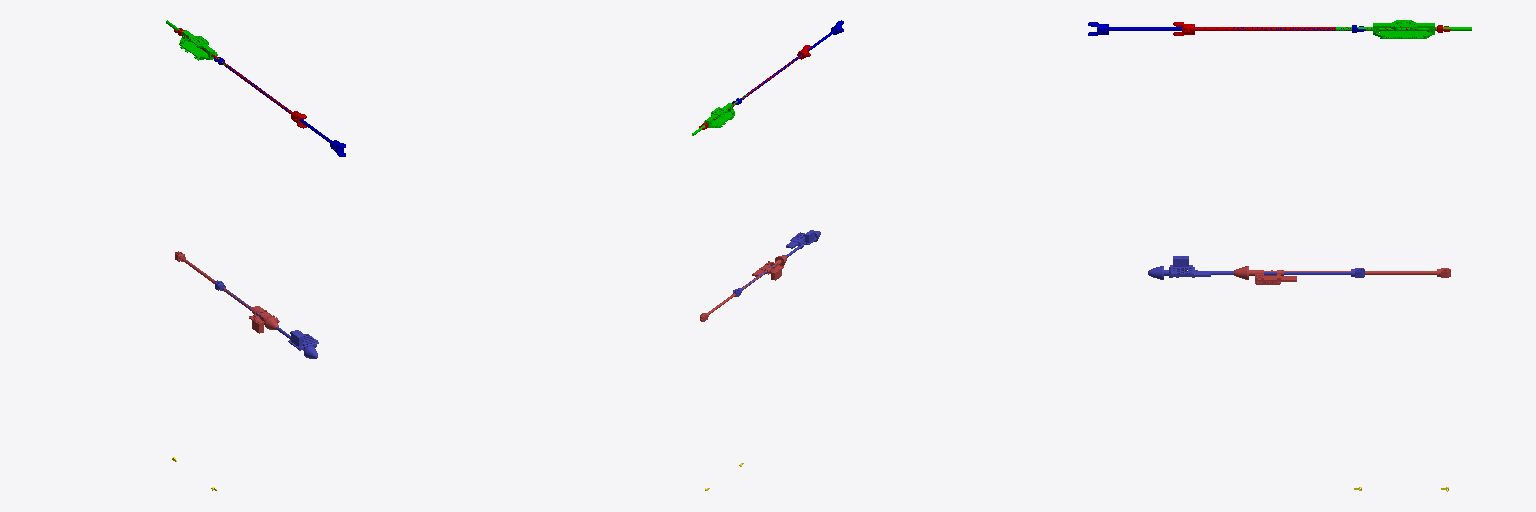
robot.urdf — ballu:
<?xml version="1.0" encoding="utf-8"?>
<!-- This URDF was automatically created by SolidWorks to URDF Exporter! Originally created by Stephen Brawner ([email redacted]) Commit Version: 1.6.0-1-g15f4949 Build Version: 1.6.7594.29634 For more information, please see
http://wiki.ros.org/sw_urdf_exporter -->

<!--
┏━━━━━┓┏━━━━━━┳━┓    ┏━┓    ┏━┓  ┏━┓
┃ ┏━┓ ┃┃ ┏━━┓ ┃ ┃    ┃ ┃    ┃ ┃  ┃ ┃
┃ ┗━┛ ┗┫ ┃  ┃ ┃ ┃    ┃ ┃    ┃ ┃  ┃ ┃
┃ ┏━━┓ ┃ ┗━━┛ ┃ ┃  ┏━┫ ┃  ┏━┫ ┃  ┃ ┃
┃ ┗━━┛ ┃ ┏━━┓ ┃ ┗━━┛ ┃ ┗━━┛ ┃ ┗━━┛ ┃
┗━━━━━━┻━┛  ┗━┻━━━━━━┻━━━━━━┻━━━━━━┛
-->

<robot name="ballu">
  <!-- ============================== -->
  <!--        LINK DEFINITIONS        -->
  <!-- ============================== -->
  <link name="base_link"></link>
  <link name="PELVIS">
    <inertial>
      <origin xyz="-0.00044 0.00002 -0.0039" rpy="0 0 0"/><mass value="0.02127"/><inertia ixx="2.394281E-05" iyy="2.165260E-06" izz="2.361908E-05" ixy="1.327084E-08" ixz="7.820202E-08" iyz="1.342177E-08"/>
    </inertial>
    <visual>
      <origin xyz="0 0 0" rpy="0 0 0"/>
      <geometry><mesh filename="package://urdf/meshes/PELVIS.STL"/></geometry>
      <material name="color_pelvis" />
    </visual>
    <collision>
      <origin xyz="0 0 0" rpy="1.57079632679 0 0"/>
      <geometry><cylinder radius="0.005" length="0.15"/></geometry>
    </collision>
  </link>


  <link name="FEMUR_LEFT">
    <inertial>
      <origin xyz="-0.00005 0.17956 0" rpy="0 0 0"/><mass value="0.00944"/><inertia ixx="1.705039E-04" iyy="1.024278E-07" izz="1.704907E-04" ixy="-8.965456E-08" ixz="0.000000E+00" iyz="5.521509E-09"/>
      <!-- <origin xyz="-0.00005 0.17956 0" rpy="0 0 0"/><mass value="0.00944"/><inertia ixx="7.386170666673715e-05" iyy="4.0277333337080584e-07" izz="7.386170666669967e-05"/> -->
    </inertial>
    <visual>
      <origin xyz="0 0 0" rpy="0 0 0"/>
      <geometry><mesh filename="package://urdf/meshes/FEMUR_LEFT.STL"/></geometry>
      <material name="color_femur_left" />
    </visual>
    <collision>
      <origin xyz="0 0.185 0" rpy="1.57079632679 0 0"/>
      <geometry><cylinder radius="0.005" length="0.3"/></geometry>
    </collision>
  </link>
  <link name="FEMUR_RIGHT">
    <inertial>
      <origin xyz="-0.00005 0.17956 0" rpy="0 0 0"/><mass value="0.00944"/><inertia ixx="1.705039E-04" iyy="1.024278E-07" izz="1.704907E-04" ixy="-8.965456E-08" ixz="0.000000E+00" iyz="5.521509E-09"/>
      <!-- <origin xyz="-0.00005 0.17956 0" rpy="0 0 0"/><mass value="0.00944"/><inertia ixx="7.386170666673715e-05" iyy="4.0277333337080584e-07" izz="7.386170666669967e-05"/> -->
    </inertial>
    <visual>
      <origin xyz="0 0 0" rpy="0 0 0"/>
      <geometry><mesh filename="package://urdf/meshes/FEMUR_RIGHT.STL"/></geometry>
      <material name="color_femur_right" />
    </visual>
    <collision>
      <origin xyz="0 0.185 0" rpy="1.57079632679 0 0"/>
      <geometry><cylinder radius="0.005" length="0.3"/></geometry>
    </collision>
  </link>


  <link name="TIBIA_LEFT">
    <inertial>
      <origin xyz="0.0068 0.22605 -0.00419" rpy="0 0 0"/><mass value="0.04367"/><inertia ixx="1.554562E-04" iyy="5.653536E-06" izz="1.589192E-04" ixy="2.581390E-06" ixz="2.577077E-07" iyz="-2.545764E-06"/>
      <!-- <origin xyz="0.0068 0.22605 -0.00419" rpy="0 0 0"/><mass value="0.04367"/><inertia ixx="1.5536330333355247E-04" iyy="1.8632533334496604e-06" izz="1.5536330333343614E-04"/> -->
    </inertial>
    <visual>
      <origin xyz="0 0 0" rpy="0 0 0"/>
      <geometry><mesh filename="package://urdf/meshes/TIBIA_LEFT.STL"/></geometry>
      <material name="color_tibia_left" />
    </visual>
    <collision> <!-- TIBIA_LEFT -->
      <origin xyz="0 0.15 0" rpy="1.57079632679 0 0"/>
      <geometry><cylinder radius="0.005" length="0.2"/></geometry>
      <contact_coefficients mu="0.9" />
    </collision>
    <collision> <!-- FOOT_LEFT -->
      <origin xyz="0 0.38485 0" rpy="1.57079632679 0 0"/> <!-- 0.38085 <origin xyz="0 0 0.004" rpy="0 0 0"/>-->
      <geometry><sphere radius="0.004" /></geometry>
      <contact_coefficients mu="0.9" />
    </collision>
  </link>
  <link name="TIBIA_RIGHT">
    <inertial>
      <!-- <origin xyz="0.00711 0.22605 0.00419" rpy="0 0 0"/><mass value="0.04367"/><inertia ixx="1.554534E-04" iyy="5.712977E-06" izz="1.589759E-04" ixy="2.700721E-06" ixz="-1.398425E-07" iyz="2.544418E-06"/> -->
      <origin xyz="0.0068 0.22605 -0.00419" rpy="0 0 0"/><mass value="0.04367"/><inertia ixx="1.554562E-04" iyy="5.653536E-06" izz="1.589192E-04" ixy="2.581390E-06" ixz="2.577077E-07" iyz="-2.545764E-06"/>
      <!-- <origin xyz="0.0068 0.22605 -0.00419" rpy="0 0 0"/><mass value="0.04367"/><inertia ixx="1.5536330333355247E-04" iyy="1.8632533334496604e-06" izz="1.5536330333343614E-04"/> -->
    </inertial>
    <visual>
      <origin xyz="0 0 0" rpy="0 0 0"/>
      <geometry><mesh filename="package://urdf/meshes/TIBIA_RIGHT.STL"/></geometry>
      <material name="color_tibia_right" />
    </visual>
    <collision> <!-- TIBIA_RIGHT -->
      <origin xyz="0 0.15 0" rpy="1.57079632679 0 0"/>
      <geometry><cylinder radius="0.005" length="0.2"/></geometry>
      <contact_coefficients mu="0.9" />
    </collision>
    <collision> <!-- FOOT_RIGHT -->
      <origin xyz="0 0.38485 0" rpy="1.5707963267949 0 0"/> <!-- 0.38085 <origin xyz="0 0 0.004" rpy="0 0 0"/>-->
      <geometry><sphere radius="0.004"/></geometry>
      <contact_coefficients mu="0.9" />
    </collision>
  </link>


  <link name="MOTORARM_LEFT">
    <inertial>
      <origin xyz="0.00168 0 -0.00063" rpy="0 0 0" /><mass value="0.00016" /><inertia ixx="4.000000E-10" iyy="1.600000E-09" izz="1.730000E-09" ixy="0.000000E+00" ixz="1.700000E-10" iyz="0.000000E+00" />
    </inertial>
    <visual>
      <origin xyz="0 0 0" rpy="0 0 0"/>
      <geometry><mesh filename="package://urdf/meshes/MOTORARM_LEFT.STL"/></geometry>
      <material name="color_motorarm" />
    </visual>
    <collision>
      <origin xyz="0 0 0" rpy="0 0 1.57079632679"/>
      <geometry><box size="0.004 0.012 0.002"/></geometry>
    </collision>
  </link>
  <link name="MOTORARM_RIGHT">
    <inertial>
      <origin xyz="0.00168 0 -0.00063" rpy="0 0 0" /><mass value="0.00016" /><inertia ixx="4.000000E-10" iyy="1.600000E-09" izz="1.730000E-09" ixy="0.000000E+00" ixz="1.700000E-10" iyz="0.000000E+00" />
      <!-- <origin xyz="-0.00006 -0.37953 0" rpy="0 0 0" /><mass value="0.15898" /><inertia ixx="1.421434E-02" iyy="1.025578E-02" izz="1.420794E-02" ixy="-3.811700E-06" ixz="0.000000E+00" iyz="0.000000E+00" /> -->
    </inertial>
    <visual>
      <origin xyz="0 0 0" rpy="0 0 0"/>
      <geometry><mesh filename="package://urdf/meshes/MOTORARM_RIGHT.STL"/></geometry>
      <material name="color_motorarm" />
    </visual>
    <collision>
      <origin xyz="0 0 0" rpy="0 0 1.57079632679"/>
      <geometry><box size="0.004 0.012 0.002"/></geometry>
    </collision>
  </link>


  <link name="BALLOON">
    <inertial>
      <origin xyz="-0.00006 -0.37953 0" rpy="0 0 0"/>
      <mass value="0.15898"/>
      <inertia ixx="1.421434E-02" iyy="1.025578E-02" izz="1.420794E-02" ixy="-3.811700E-06" ixz="0.000000E+00" iyz="0.000000E+00"/>
    </inertial>
    <visual>
      <origin xyz="0 0 0" rpy="0 0 0"/>
      <geometry><mesh filename="package://urdf/meshes/BALLOON.STL"/></geometry>
      <material name="color_balloons" />
    </visual>
    <collision>
      <origin xyz="0 -0.38 0" rpy="1.57079632679 0 0"/>
      <geometry><cylinder radius="0.32" length="0.7"/></geometry>
    </collision>
  </link>


  <!-- ============================== -->
  <!--        JOINT DEFINITIONS       -->
  <!-- ============================== -->
  <joint name="floating_joint" type="floating">
    <origin xyz="0 0 0" rpy="0 0 0"/>
    <parent link="base_link"/>
    <child link="PELVIS"/>
  </joint>

  <!-- Kinematic Joints -->
  <joint name="HIP_LEFT" type="revolute">
    <origin xyz="0 0.058025 0" rpy="-1.57079632679 0 0"/>
    <parent link="PELVIS"/>
    <child link="FEMUR_LEFT"/>
    <axis xyz="0 0 1"/>
    <limit lower="-1.57079632679" upper="1.57079632679" effort="0" velocity="0"/>
    <dynamics damping="1e-2" friction="1e-2" />
  </joint>
  <joint name="HIP_RIGHT" type="revolute">
    <origin xyz="0 -0.058025 0" rpy="-1.57079632679 0 0"/>
    <parent link="PELVIS"/>
    <child link="FEMUR_RIGHT"/>
    <axis xyz="0 0 1"/>
    <limit lower="-1.57079632679" upper="1.57079632679" effort="0" velocity="0"/>
    <dynamics damping="1e-2" friction="1e-2" />
  </joint>

  <joint name="KNEE_LEFT" type="revolute">
    <origin xyz="0 0.36501 0" rpy="0 0 0"/>
    <parent link="FEMUR_LEFT"/>
    <child link="TIBIA_LEFT"/>
    <axis xyz="0 0 1"/>
    <!-- <limit lower="0.47124" upper="0.7854" effort="0" velocity="0"/> -->
    <limit lower="0" upper="1.7453292519943295" effort="0" velocity="0"/>
    <dynamics damping="1e-2" friction="1e-2" />
  </joint>
  <joint name="KNEE_RIGHT" type="revolute">
    <origin xyz="0 0.36501 0" rpy="0 0 0"/>
    <parent link="FEMUR_RIGHT"/>
    <child link="TIBIA_RIGHT"/>
    <axis xyz="0 0 1"/>
    <!-- <limit lower="0.47124" upper="0.7854" effort="0" velocity="0"/> -->
    <limit lower="0" upper="1.7453292519943295" effort="10" velocity="10"/>
    <dynamics damping="1e-2" friction="1e-2" />
  </joint>

  <joint name="MOTOR_LEFT" type="revolute">
    <origin xyz="-0.008375 0.32732 0.001" rpy="-3.14159265359 0 -1.57079632679"/>
    <parent link="TIBIA_LEFT"/>
    <child link="MOTORARM_LEFT"/>
    <axis xyz="0 0 1"/>
    <limit lower="0" upper="3.14159265359" effort="0" velocity="0"/>
    <dynamics damping="0" friction="0" />
  </joint>
  <joint name="MOTOR_RIGHT" type="revolute">
    <origin xyz="-0.008375 0.32732 -0.001" rpy="3.14159265359 0 -1.57079632679"/>
    <parent link="TIBIA_RIGHT"/>
    <child link="MOTORARM_RIGHT"/>
    <axis xyz="0 0 1"/>
    <limit lower="0" upper="3.14159265359" effort="0" velocity="0"/>
    <dynamics damping="0" friction="0" />
  </joint>

  <joint name="NECK" type="revolute">
    <origin xyz="0.0044439 0 0.015" rpy="-1.57079632679 0 0"/>
    <parent link="PELVIS"/>
    <child link="BALLOON"/>
    <axis xyz="0 0 1"/>
    <limit lower="-1.57079632679" upper="1.57079632679" effort="10" velocity="10"/>
    <dynamics damping="0" friction="0" />
  </joint>


  <!-- Link Colors -->
  <material name="color_pelvis"><color rgba="0 0.8 0 1"/></material>
  <material name="color_femur_left"><color rgba="0.8 0 0 1"/></material>
  <material name="color_femur_right"><color rgba="0 0 0.8 1"/></material>
  <material name="color_tibia_left"><color rgba="0.75 0.3 0.3 1"/></material>
  <material name="color_tibia_right"><color rgba="0.3 0.3 0.75 1"/></material>
  <material name="color_motorarm"><color rgba="1 0.93725 0.13725 1"/></material>
  <material name="color_balloons"><color rgba="0.7 0.7 0.7 0.7"/></material>
</robot>


<!-- pi = 3.14159265359, pi/2=1.57079632679, pi/3=1.0471975512, pi/4=0.78539816339, pi/6=0.52359877559 -->

--- What the picture shows (computed from the rendered views, not written in the file) ---
The picture shows the robot from 3 angles, left to right: view 1: azimuth 30°, elevation 25°; view 2: azimuth 150°, elevation 25°; view 3: azimuth 270°, elevation 25°; orthographic projection.
Model ballu with 9 links and 8 joints (7 revolute, 1 floating), rooted at base_link, posed all joints at 0.
Visible links, largest first — view 1: TIBIA_LEFT, TIBIA_RIGHT, PELVIS; view 2: TIBIA_LEFT, TIBIA_RIGHT; view 3: TIBIA_RIGHT, PELVIS, TIBIA_LEFT, FEMUR_LEFT, FEMUR_RIGHT.
Link boxes in pixels (bbox=[...]): TIBIA_LEFT: bbox=[175, 251, 279, 333]; TIBIA_RIGHT: bbox=[215, 280, 318, 358]; PELVIS: bbox=[166, 20, 227, 67]; TIBIA_LEFT: bbox=[700, 255, 786, 321]; TIBIA_RIGHT: bbox=[733, 230, 820, 296]; TIBIA_RIGHT: bbox=[1148, 256, 1364, 279]; PELVIS: bbox=[1336, 20, 1471, 38]; TIBIA_LEFT: bbox=[1234, 266, 1450, 284]; FEMUR_LEFT: bbox=[1173, 22, 1450, 35]; FEMUR_RIGHT: bbox=[1088, 22, 1365, 35].
Size in the robot's own frame: 0.0375 by 0.5213 by 0.7055 metres.
7 mesh visuals loaded from 8 distinct referenced files (7 binary STL); not drawn: 1 (reference not matched to a file when rendering).
